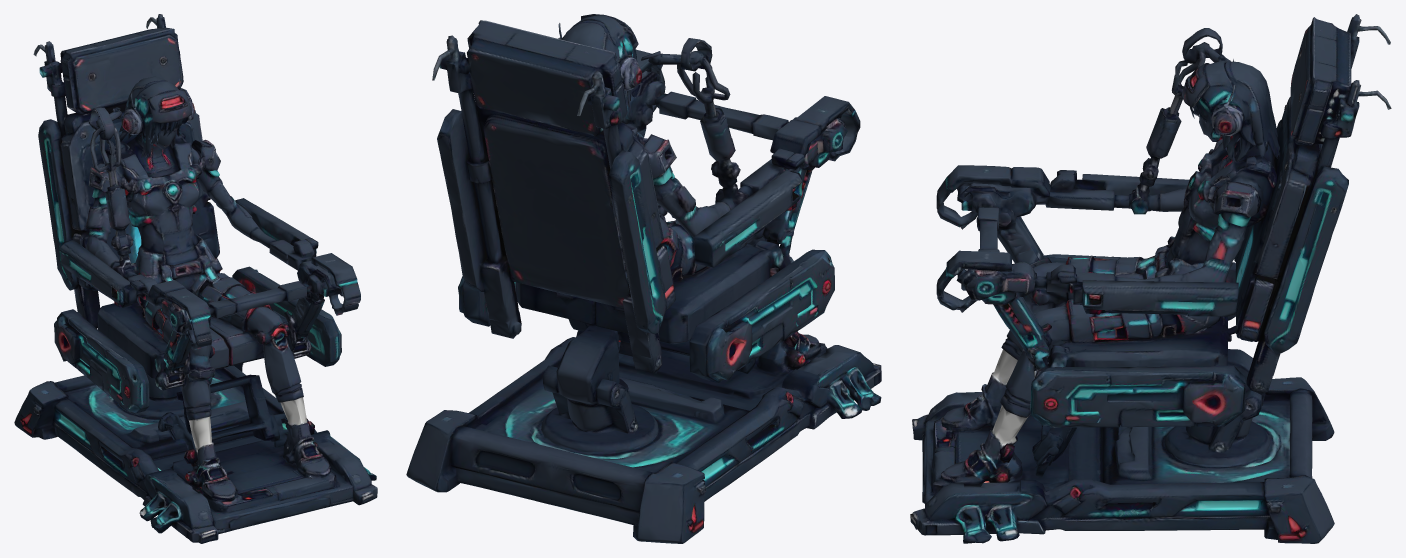
Rendered from restraint_chair.glb.
3 views of the same model, side by side, from view 1: azimuth 30°, elevation 25°; view 2: azimuth 150°, elevation 25°; view 3: azimuth 270°, elevation 25° (orthographic). The views are drawn at different scales.
Visible parts, largest first — view 1: tripo_node_c9dc4f14-de75-471b-8d96-65b407ec30e3; view 2: tripo_node_c9dc4f14-de75-471b-8d96-65b407ec30e3; view 3: tripo_node_c9dc4f14-de75-471b-8d96-65b407ec30e3.
Boxes of the visible parts, x1,y1,x2,y2 form: tripo_node_c9dc4f14-de75-471b-8d96-65b407ec30e3: (14, 14, 377, 543); tripo_node_c9dc4f14-de75-471b-8d96-65b407ec30e3: (406, 14, 881, 543); tripo_node_c9dc4f14-de75-471b-8d96-65b407ec30e3: (910, 14, 1391, 543).
Size of the model in its own units: 0.6363 by 1 by 0.9994.
1 material, 1 textured.
